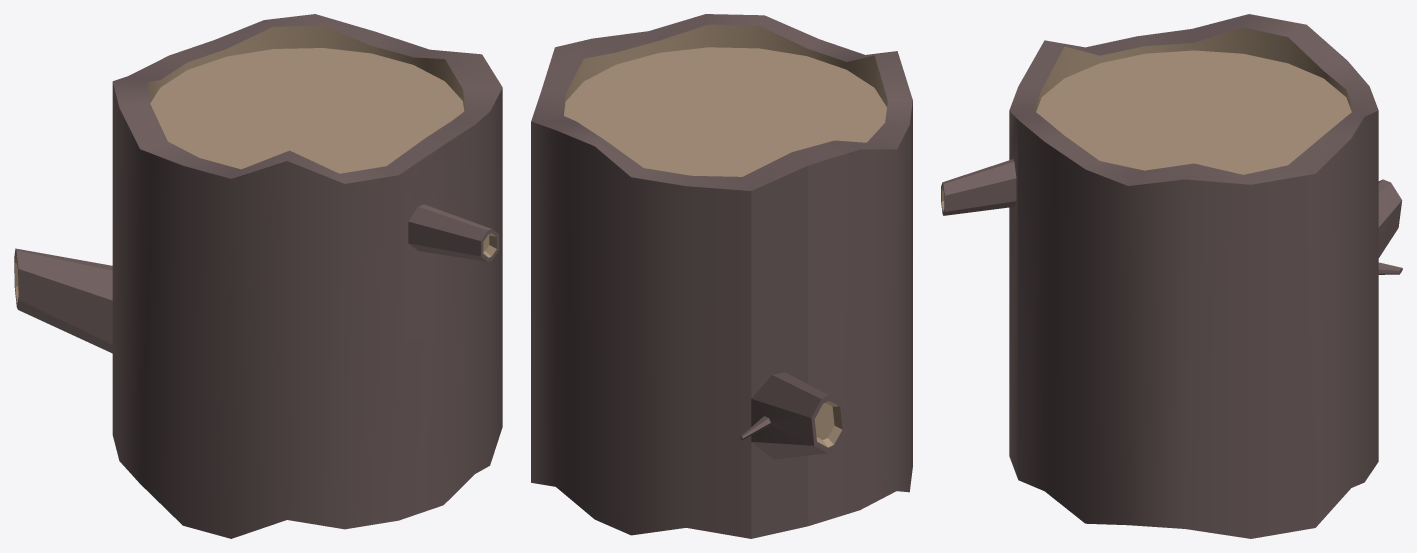
Rendered from Log.fbx.
3 renders of one model, left to right at view 1: azimuth 30°, elevation 25°; view 2: azimuth 150°, elevation 25°; view 3: azimuth 270°, elevation 25°, orthographic. The views are drawn at different scales.
Parts seen in each view (by area): view 1: pCylinder12; view 2: pCylinder12; view 3: pCylinder12.
Boxes of the visible parts, x1,y1,x2,y2 form: pCylinder12: (14,14,502,538); pCylinder12: (531,14,912,538); pCylinder12: (941,14,1402,538).
Bounding box in the file's own units: 1821 × 1788 × 1946.
